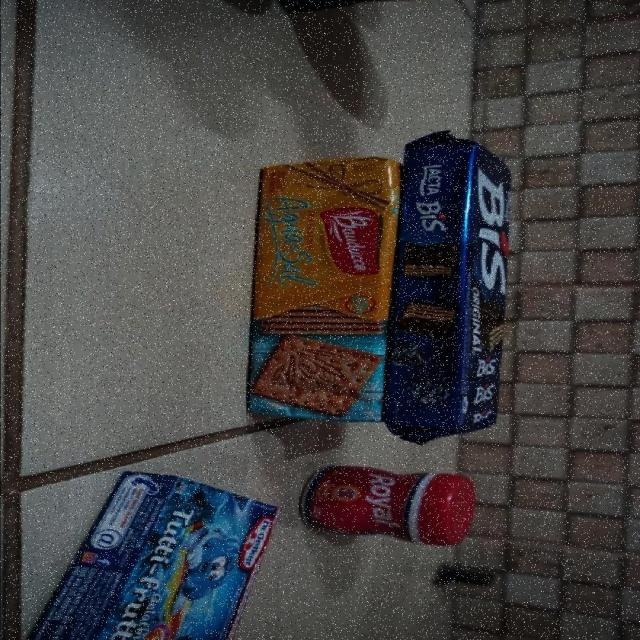Cracker: (240, 156, 406, 422)
Gelatine: (25, 471, 284, 640)
Ketchup: (262, 0, 568, 12)
Yeast: (297, 463, 475, 546)
